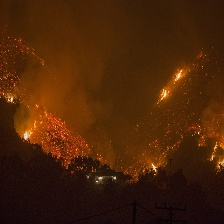fire: (19, 114, 88, 164), (195, 126, 224, 169), (173, 63, 187, 83), (6, 85, 18, 108), (146, 156, 158, 178), (159, 86, 170, 104)
smoke: (45, 1, 146, 118)
